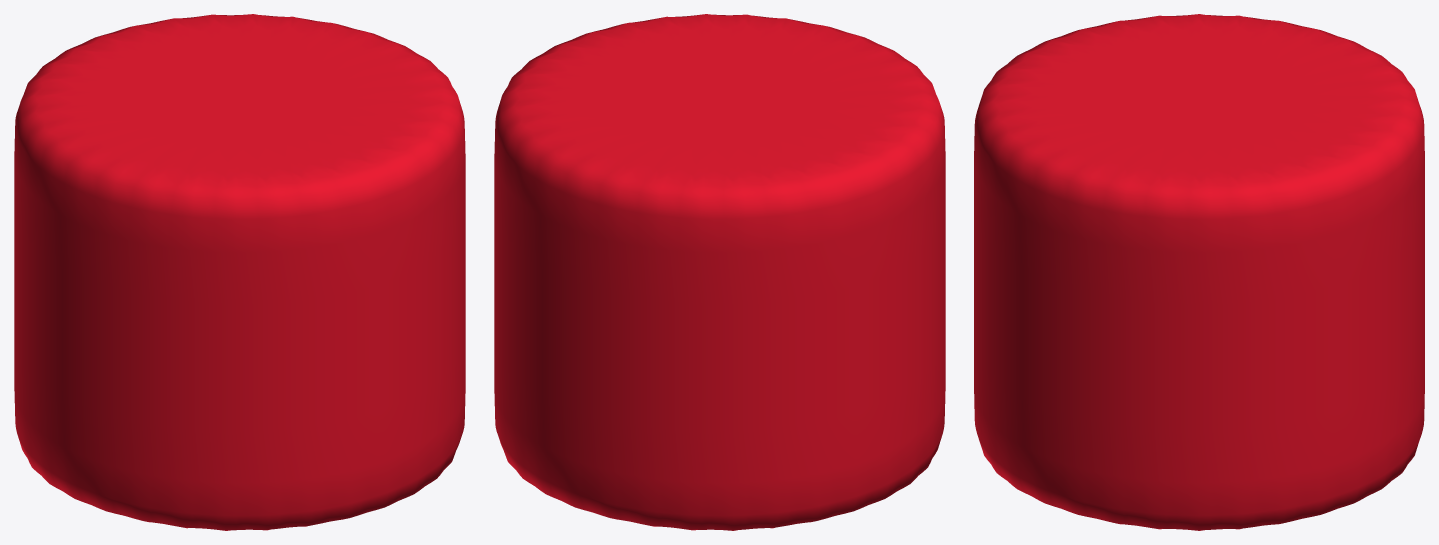
Rendered from clinder.gltf.
The picture shows the model from 3 angles, left to right: view 1: azimuth 30°, elevation 25°; view 2: azimuth 150°, elevation 25°; view 3: azimuth 270°, elevation 25°; orthographic projection.
Parts seen in each view (by area): view 1: Cylinder; view 2: Cylinder; view 3: Cylinder.
Part boxes in pixels (left/top/right/bottom): Cylinder: left=14, top=14, right=465, bottom=530; Cylinder: left=494, top=14, right=945, bottom=530; Cylinder: left=974, top=14, right=1424, bottom=530.
Bounding box in the file's own units: 1.99 × 1.68 × 1.99.
